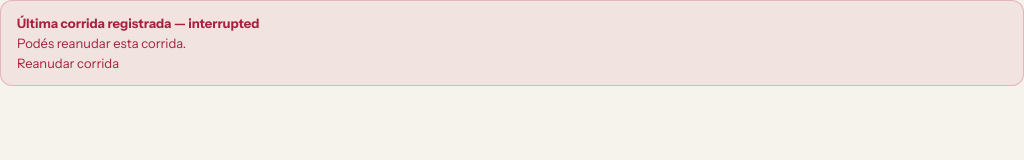
Scenario: Reanudar corrida › muestra el error del servidor y permite reintentar
Step 1. Click the button → (68, 63), box [17, 53, 119, 73]
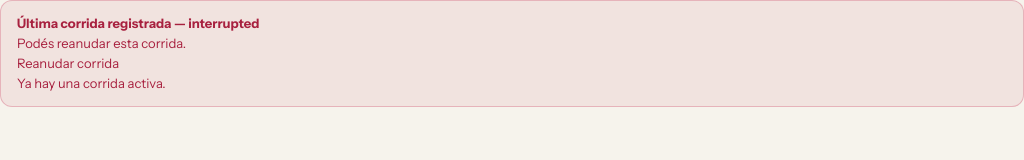
Result: the message reads "Ya hay una corrida activa." at [17, 75, 166, 91]
